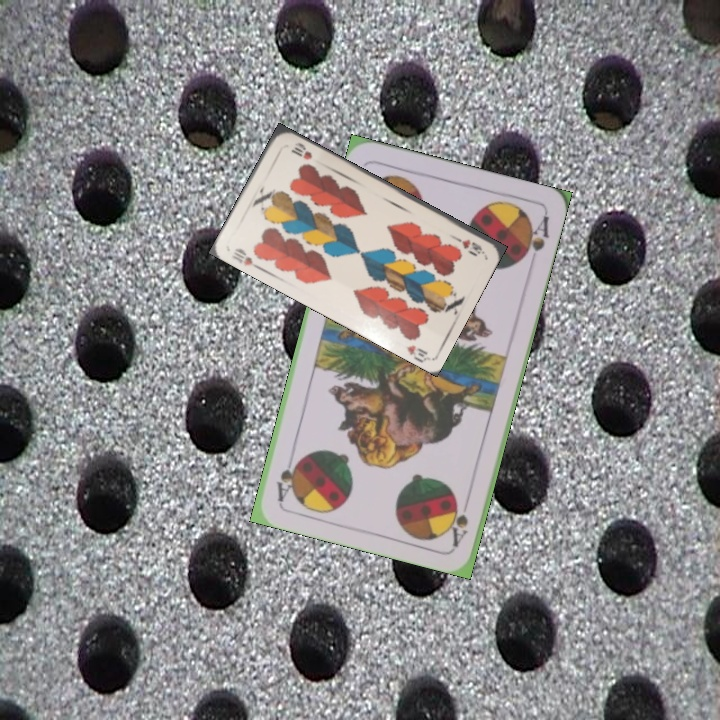H10: (227, 244, 263, 272), (448, 232, 486, 257)
SA: (447, 491, 473, 549)
